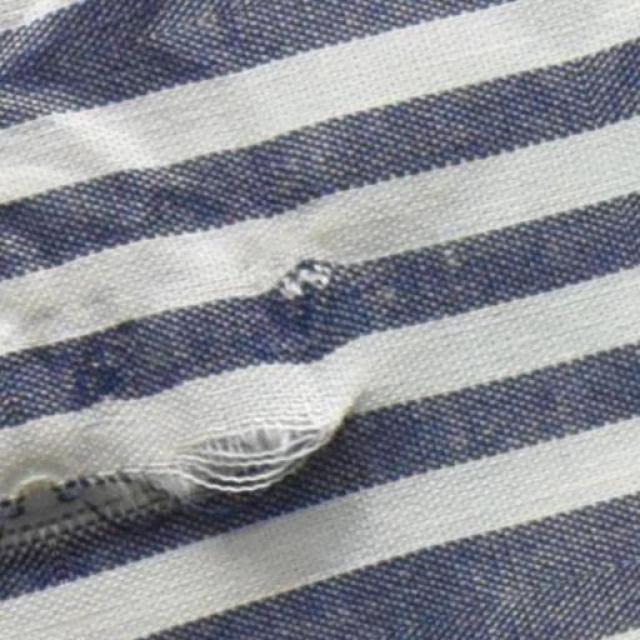cut: (0, 398, 352, 549)
